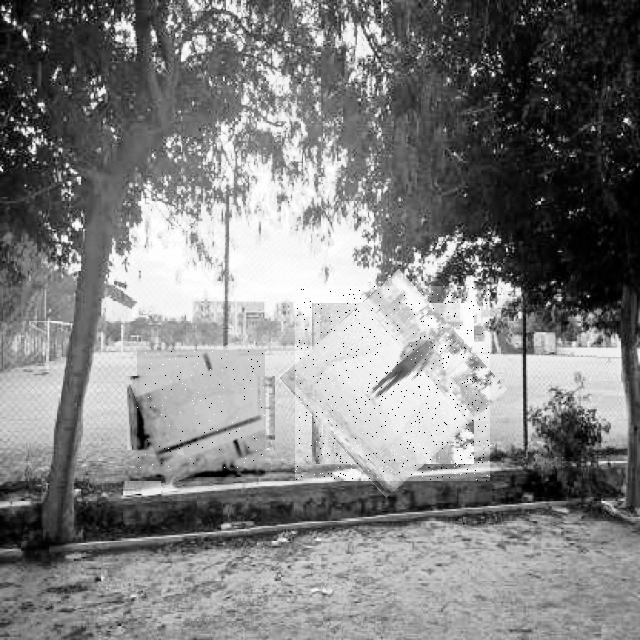anomaly-fence: (295, 286, 490, 481), (137, 350, 265, 477)
